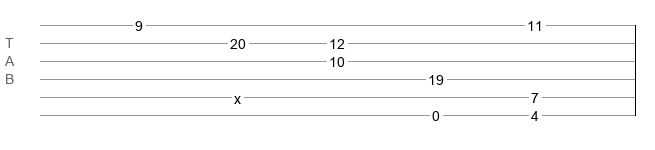0: (432, 108, 440, 118)
10: (329, 54, 345, 64)
11: (527, 18, 543, 28)
12: (329, 36, 345, 46)
19: (428, 72, 444, 82)
20: (230, 36, 246, 46)
4: (531, 108, 539, 118)
7: (531, 90, 539, 100)
9: (135, 18, 143, 28)
x: (234, 91, 241, 99)
